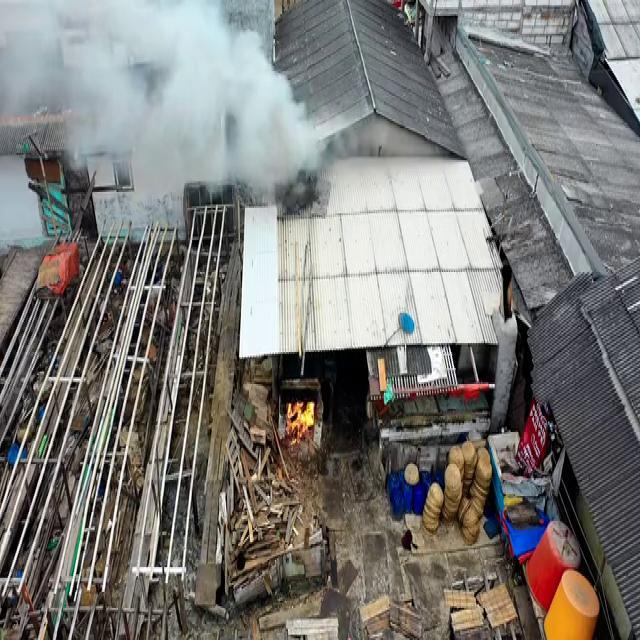smoke: (0, 3, 114, 106), (164, 1, 247, 134), (90, 0, 172, 104), (241, 106, 317, 197), (148, 124, 226, 179), (95, 104, 157, 162), (236, 50, 284, 119)
